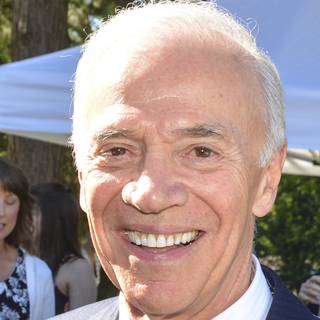eye: (172, 140, 228, 169), (91, 140, 141, 166)
